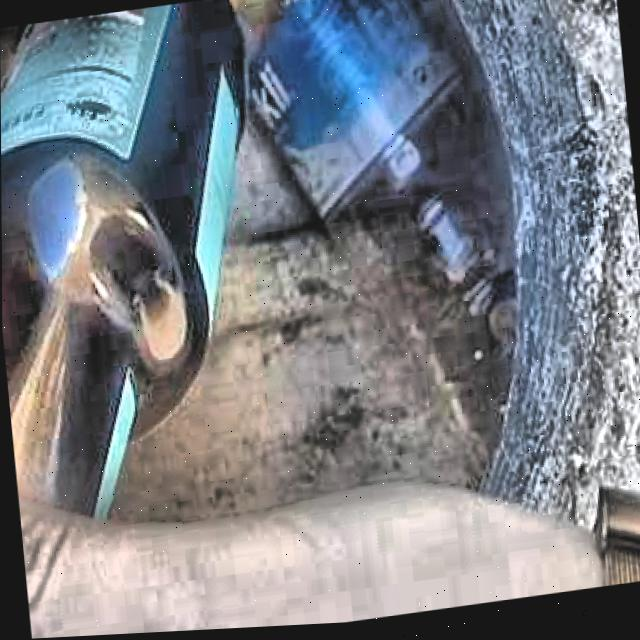glass: (1, 0, 242, 517)
